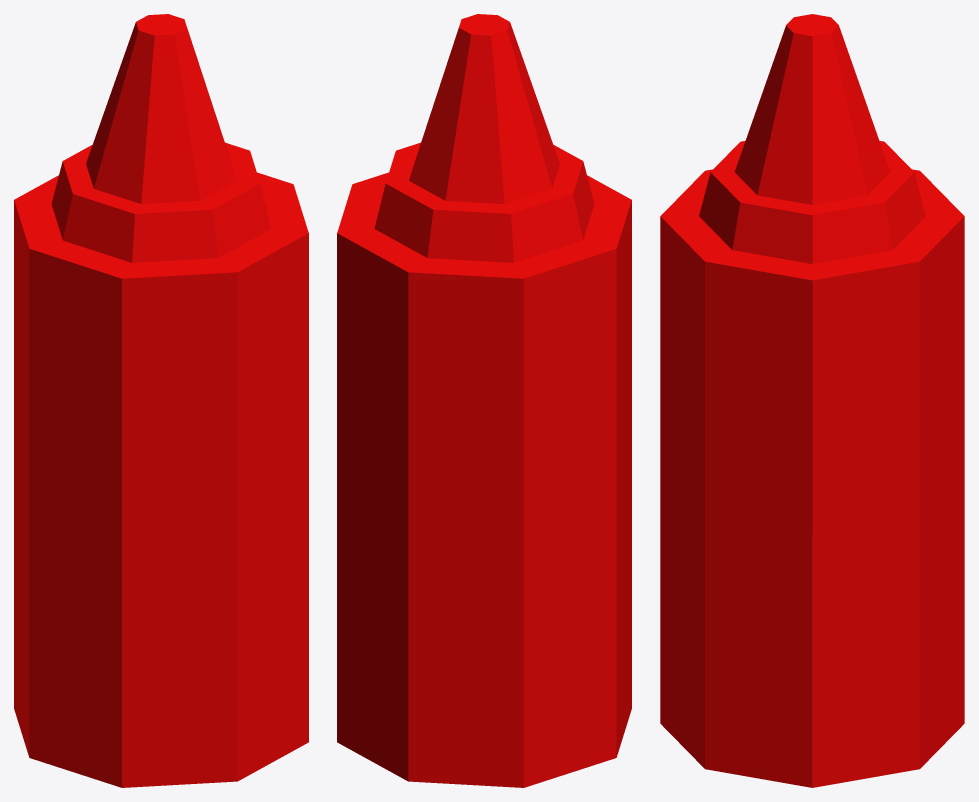
The model's file is ketchupBottle.fbx.
3 views of the same model, side by side, from view 1: azimuth 30°, elevation 25°; view 2: azimuth 150°, elevation 25°; view 3: azimuth 270°, elevation 25° (orthographic).
Parts seen in each view (by area): view 1: Cylinder.003; view 2: Cylinder.003; view 3: Cylinder.003.
Part boxes in pixels (<box>): Cylinder.003: <box>14,14,308,787</box>; Cylinder.003: <box>337,14,631,787</box>; Cylinder.003: <box>660,14,964,787</box>.
Bounding box in the file's own units: 273 × 693 × 273.
